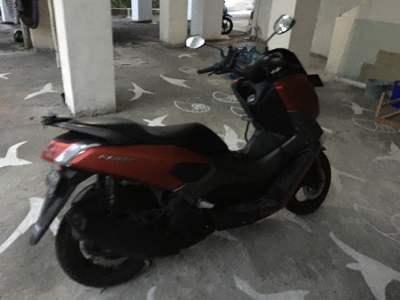moto: (47, 38, 333, 285)
